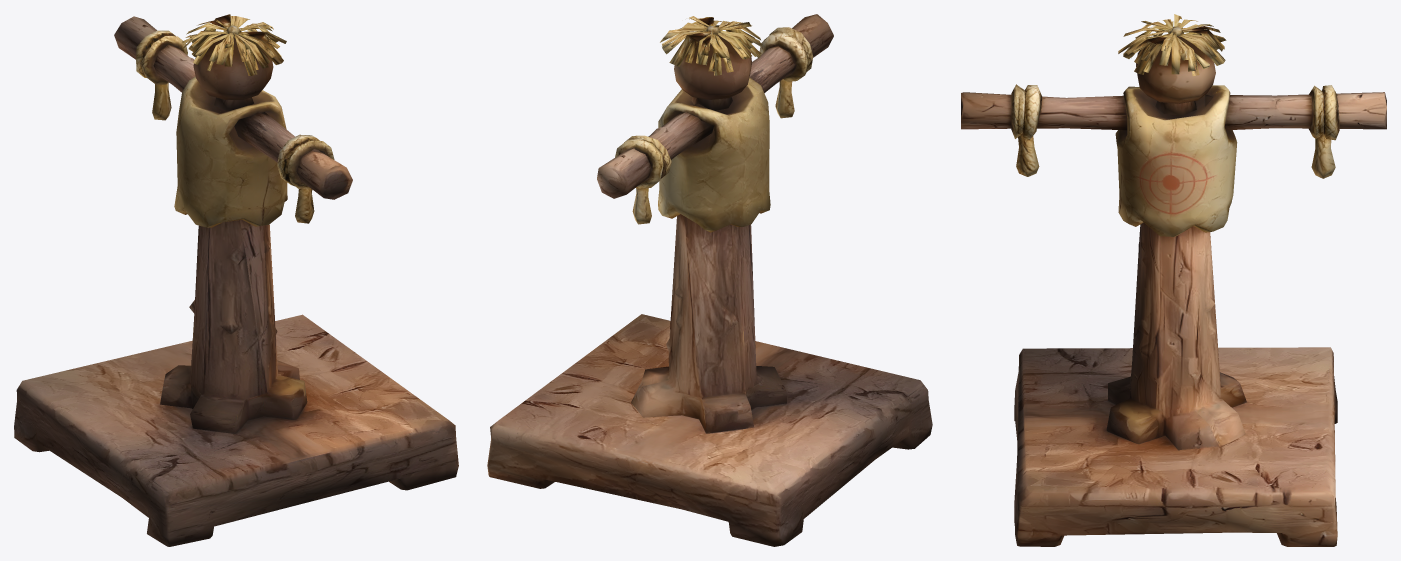
The model's file is sanctuary_target_dummy.glb.
3 views of the same model, side by side, from view 1: azimuth 30°, elevation 25°; view 2: azimuth 150°, elevation 25°; view 3: azimuth 270°, elevation 25° (orthographic). The views are drawn at different scales.
Parts seen in each view (by area): view 1: tripo_node_ec2b6c4a-9106-40fa-aa28-c189ec79735e; view 2: tripo_node_ec2b6c4a-9106-40fa-aa28-c189ec79735e; view 3: tripo_node_ec2b6c4a-9106-40fa-aa28-c189ec79735e.
Part boxes in pixels (bbox=[...]): tripo_node_ec2b6c4a-9106-40fa-aa28-c189ec79735e: bbox=[14, 14, 458, 546]; tripo_node_ec2b6c4a-9106-40fa-aa28-c189ec79735e: bbox=[487, 14, 932, 546]; tripo_node_ec2b6c4a-9106-40fa-aa28-c189ec79735e: bbox=[961, 14, 1386, 546].
Bounding box in the file's own units: 0.7129 × 0.998 × 0.8613.
1 material, 1 textured.
